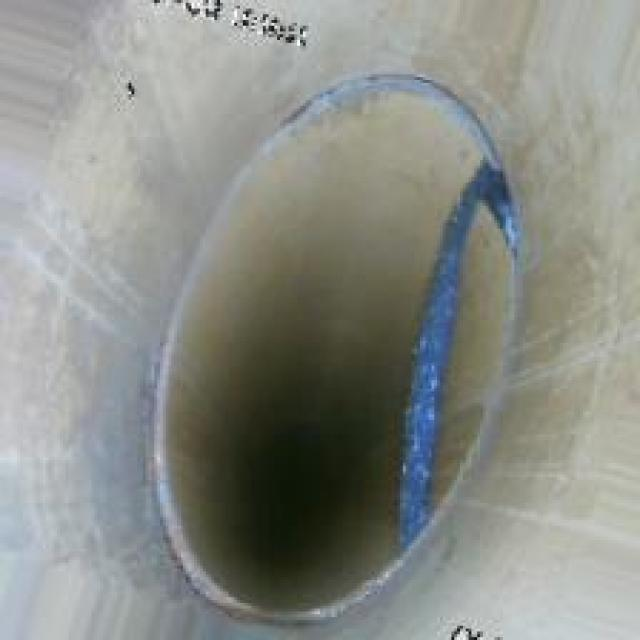joint: (146, 69, 520, 626)
